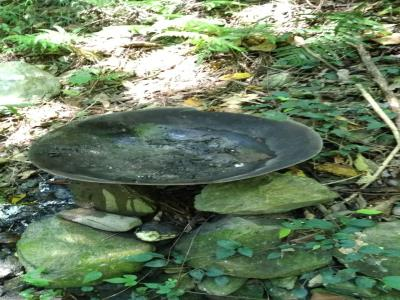plate: (26, 104, 325, 188)
